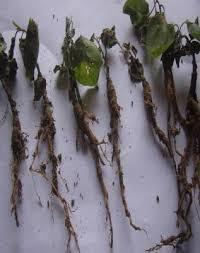root_rot: (0, 11, 200, 253)
